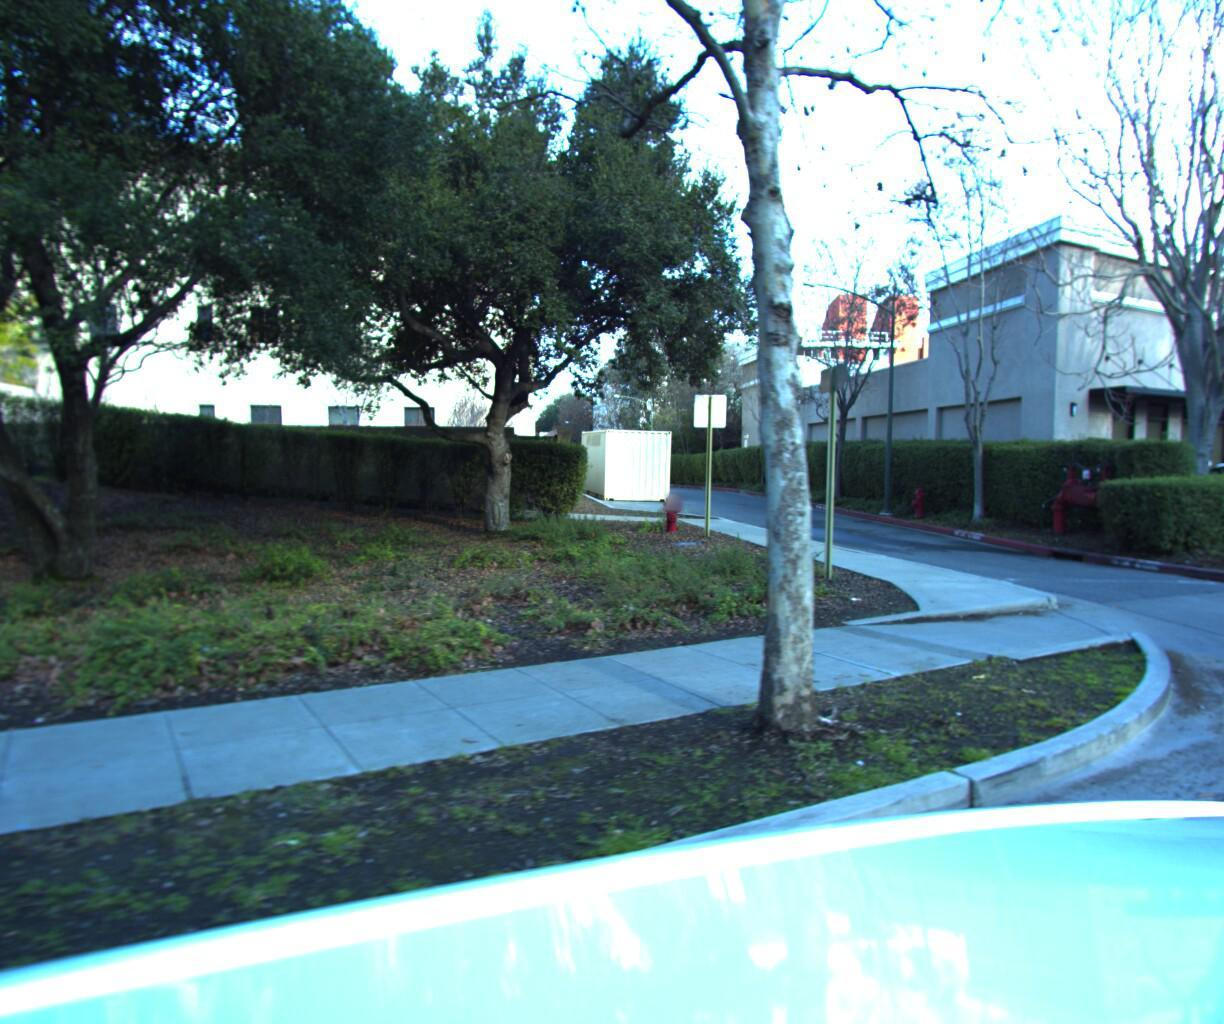car: (1157, 451, 1224, 530)
